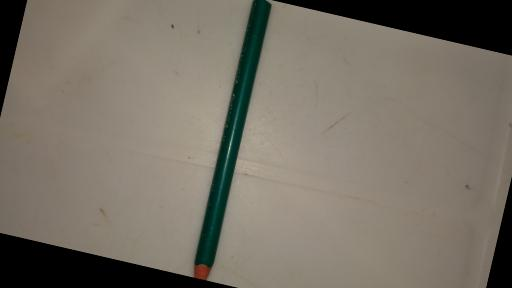Pencil: (188, 0, 273, 280)
